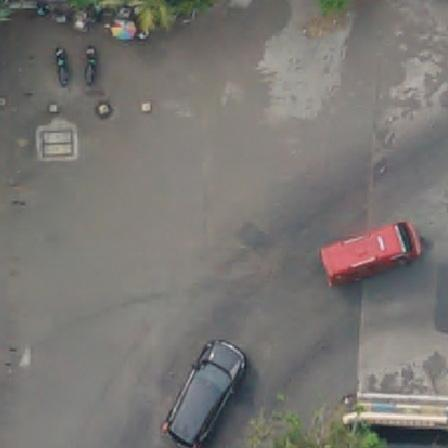Car: (165, 337, 247, 448), (322, 221, 423, 284)
Motorcycle: (80, 45, 103, 87), (56, 43, 73, 87)
